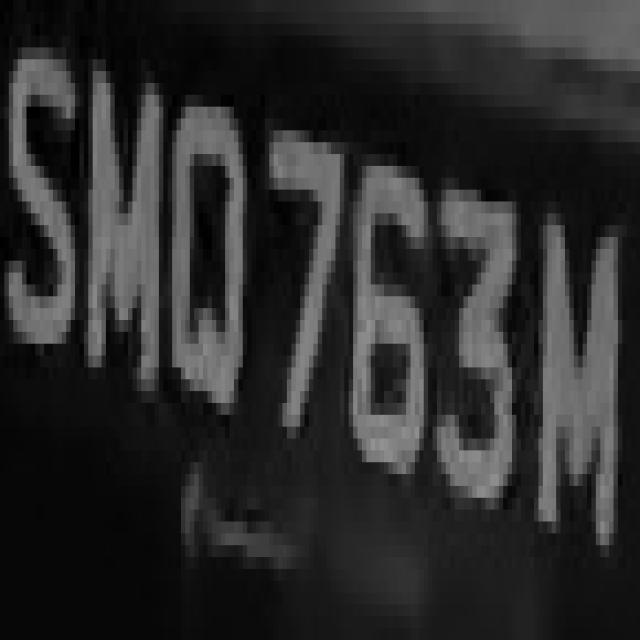3: (424, 142, 521, 569)
6: (344, 107, 428, 510)
7: (252, 95, 344, 462)
M: (534, 178, 622, 569), (84, 59, 168, 415)
Q: (159, 59, 251, 462)
S: (4, 0, 88, 367)
